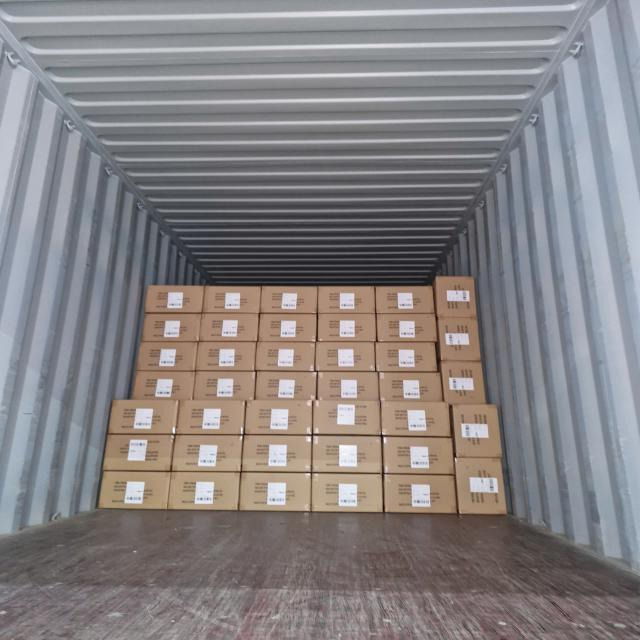Carton: (458, 459, 509, 518), (385, 476, 458, 516), (311, 474, 384, 514), (241, 473, 313, 513), (100, 471, 172, 511), (170, 471, 241, 511), (384, 435, 456, 473), (243, 434, 313, 473), (312, 435, 382, 474), (174, 435, 244, 473), (452, 404, 501, 458), (104, 436, 175, 472), (382, 402, 451, 438), (244, 401, 314, 436), (110, 399, 178, 435), (313, 402, 382, 437), (178, 401, 245, 437), (131, 372, 196, 402), (442, 361, 486, 405), (194, 371, 256, 401), (136, 341, 198, 371), (375, 342, 437, 372), (196, 342, 257, 372), (440, 318, 481, 362), (256, 372, 316, 402), (316, 342, 376, 372), (381, 373, 443, 402), (256, 343, 316, 372), (141, 312, 201, 341), (376, 313, 436, 342), (319, 372, 379, 401), (259, 313, 318, 342), (202, 312, 260, 341), (318, 313, 377, 341), (437, 276, 477, 317), (375, 286, 433, 313), (146, 286, 205, 312), (262, 286, 318, 313), (320, 286, 376, 313), (204, 286, 260, 312)
